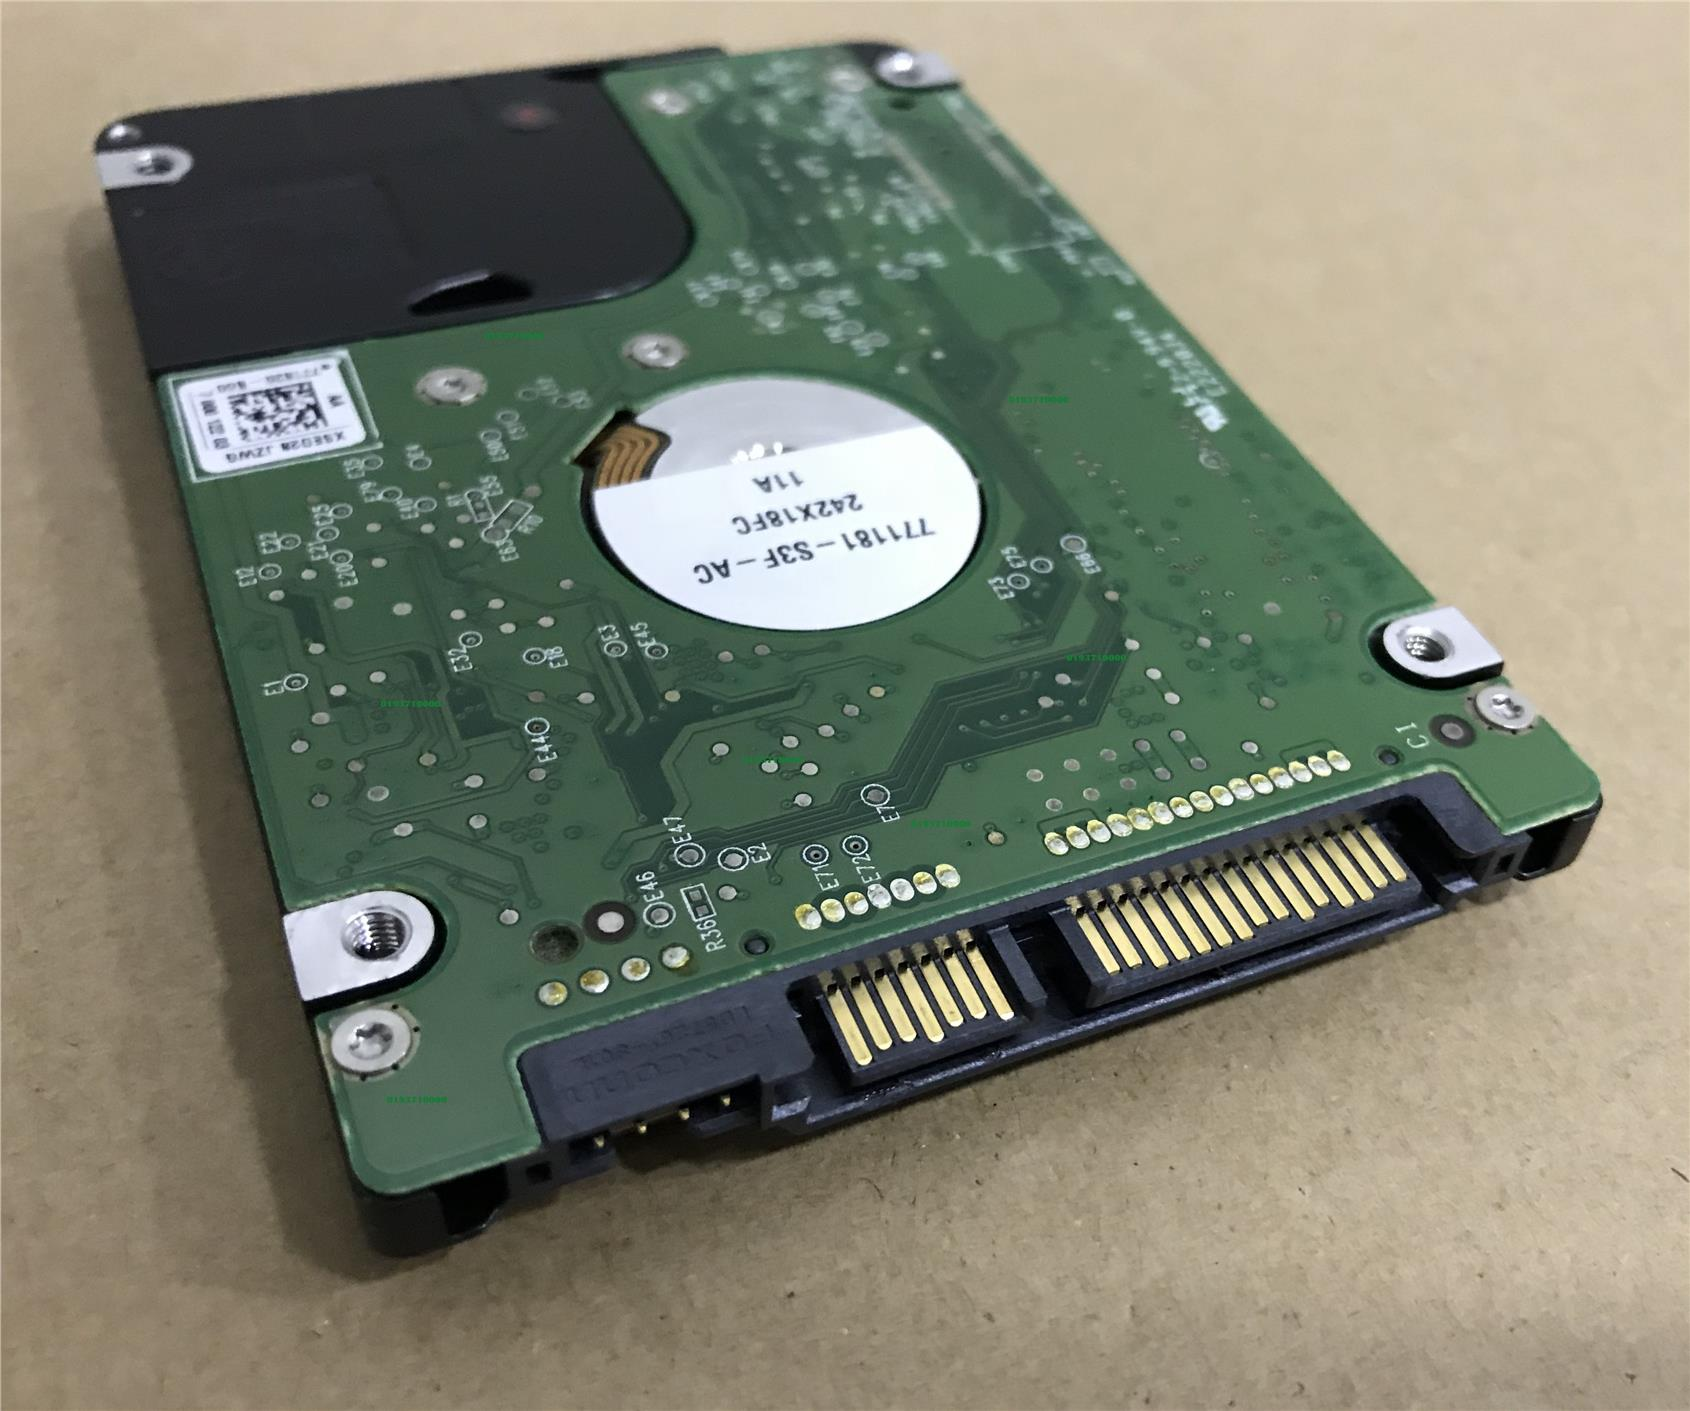SATA Hard Drive: (62, 22, 1625, 1294)
